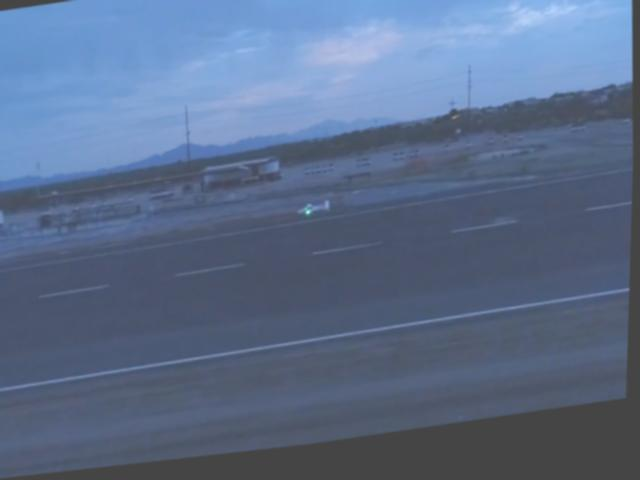plane: (297, 206, 333, 228)
